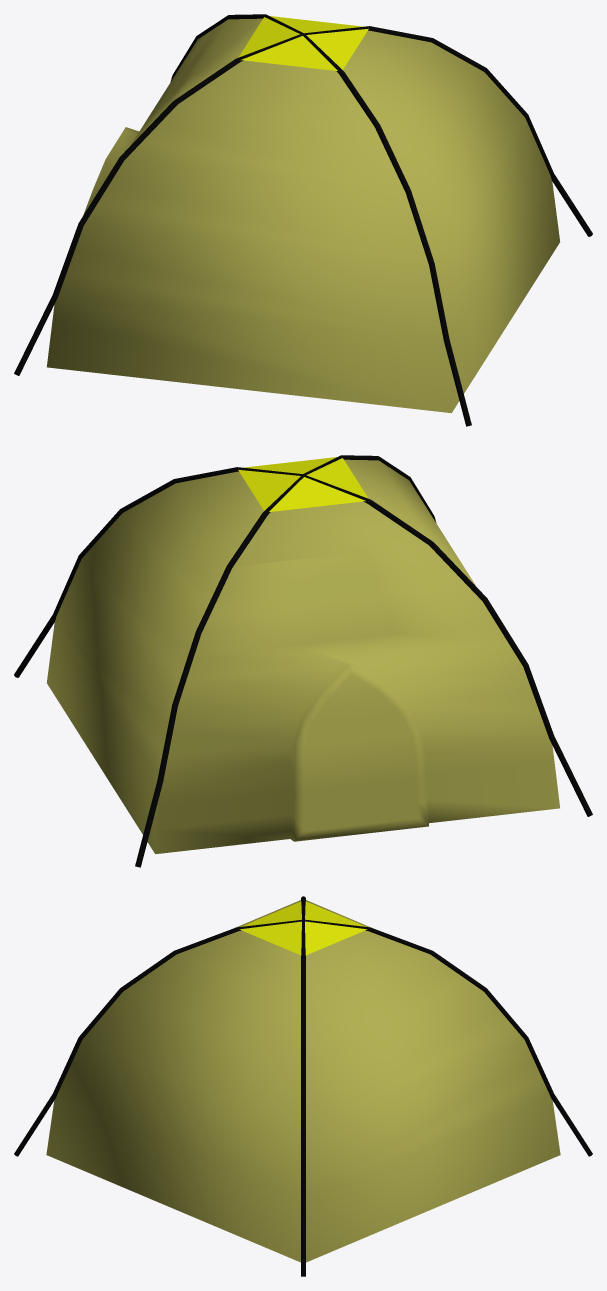
Rendered from Tent.fbx.
The picture shows the model from 3 angles, top to bottom: view 1: azimuth 30°, elevation 25°; view 2: azimuth 150°, elevation 25°; view 3: azimuth 270°, elevation 25°; orthographic projection. The views are drawn at different scales.
Parts seen in each view (by area): view 1: Sphere, Sphere.001; view 2: Sphere, Sphere.001; view 3: Sphere, Sphere.001.
Part boxes in pixels (x1,y1,x2,y2): Sphere: (47, 16, 559, 413); Sphere.001: (14, 14, 592, 426); Sphere: (47, 457, 559, 854); Sphere.001: (14, 455, 592, 867); Sphere: (46, 900, 560, 1262); Sphere.001: (14, 896, 592, 1276).
Bounding box in the file's own units: 225 × 101 × 225.
